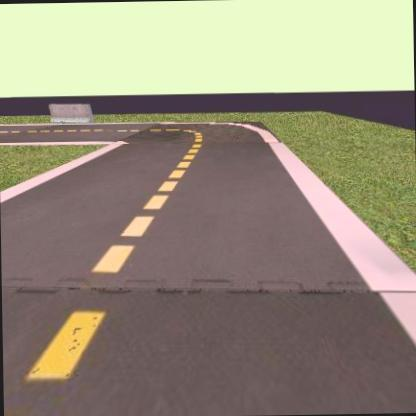Barrier: (49, 102, 95, 126)
